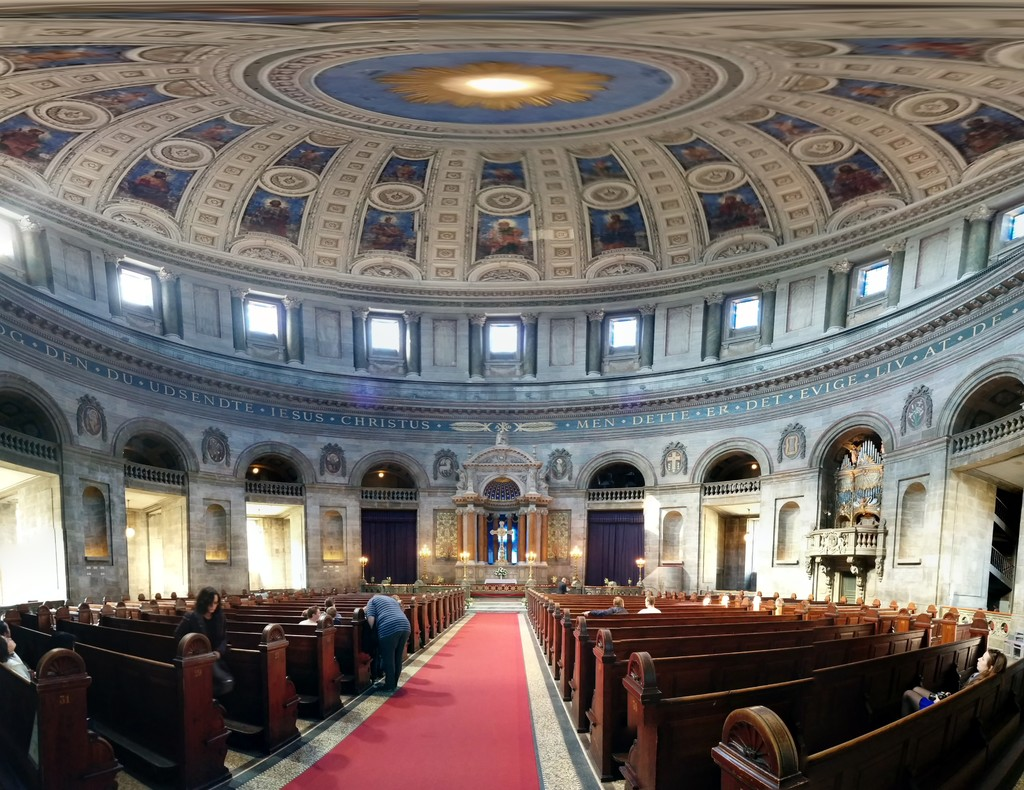person: (172, 585, 235, 708)
